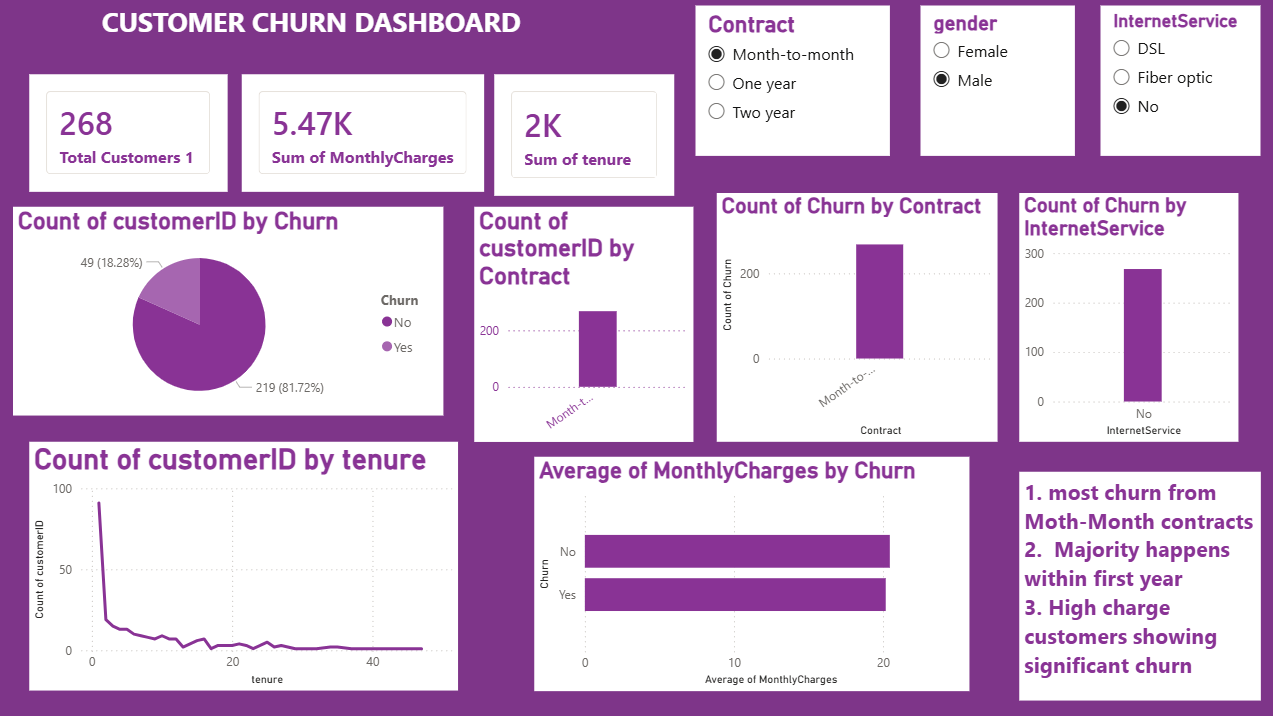

Layout of this report page (visuals, bound fields, positions):
{"tool":"powerbi","page":{"name":"Page 1","canvas":[1280,720],"ordinal":0},"visuals":[{"type":"cardVisual","fields":{"Data":["WA_Fn-UseC_-Telco-Customer-Churn.Total Customers 1"]},"box":[252.9,45.7,295.7,132.9],"z":0},{"type":"pieChart","fields":{"Category":["WA_Fn-UseC_-Telco-Customer-Churn.Churn"],"Y":["CountNonNull(WA_Fn-UseC_-Telco-Customer-Churn.customerID)"]},"box":[267.1,190,430,208.6],"z":1000},{"type":"clusteredColumnChart","fields":{"Category":["WA_Fn-UseC_-Telco-Customer-Churn.Contract"],"Y":["CountNonNull(WA_Fn-UseC_-Telco-Customer-Churn.customerID)"]},"box":[720,190,560,280],"z":2000},{"type":"lineChart","fields":{"Category":["WA_Fn-UseC_-Telco-Customer-Churn.tenure"],"Y":["CountNonNull(WA_Fn-UseC_-Telco-Customer-Churn.customerID)"]},"box":[252.9,440,955.7,280],"z":3000},{"type":"slicer","fields":{"Values":["WA_Fn-UseC_-Telco-Customer-Churn.Contract"]},"box":[0,81.4,280,138.6],"z":4000},{"type":"slicer","fields":{"Values":["WA_Fn-UseC_-Telco-Customer-Churn.gender"]},"box":[0,201.4,280,115.7],"z":5000},{"type":"slicer","fields":{"Values":["WA_Fn-UseC_-Telco-Customer-Churn.InternetService"]},"box":[0,294.3,225.7,122.9],"z":6000},{"type":"textbox","box":[0,0,1280,71.4],"z":6001},{"type":"cardVisual","fields":{"Data":["Sum(WA_Fn-UseC_-Telco-Customer-Churn.MonthlyCharges)"]},"box":[630,58.6,225.7,132.9],"z":6002},{"type":"cardVisual","fields":{"Data":["Sum(WA_Fn-UseC_-Telco-Customer-Churn.tenure)"]},"box":[897.1,58.6,330,108.6],"z":6003}]}

Visuals, with their boxes in screenshot pixels (x1, y1, x2, y2), scaled from the page's 1280x720 canvas onto the 1273x716 screenshot:
cardVisual - WA_Fn-UseC_-Telco-Customer-Churn.Total Customers 1: BBox(252, 45, 546, 178)
pieChart - WA_Fn-UseC_-Telco-Customer-Churn.Churn x CountNonNull(WA_Fn-UseC_-Telco-Customer-Churn.customerID): BBox(266, 189, 693, 396)
clusteredColumnChart - WA_Fn-UseC_-Telco-Customer-Churn.Contract x CountNonNull(WA_Fn-UseC_-Telco-Customer-Churn.customerID): BBox(716, 189, 1272, 467)
lineChart - WA_Fn-UseC_-Telco-Customer-Churn.tenure x CountNonNull(WA_Fn-UseC_-Telco-Customer-Churn.customerID): BBox(252, 438, 1202, 715)
slicer - WA_Fn-UseC_-Telco-Customer-Churn.Contract: BBox(0, 81, 278, 219)
slicer - WA_Fn-UseC_-Telco-Customer-Churn.gender: BBox(0, 200, 278, 315)
slicer - WA_Fn-UseC_-Telco-Customer-Churn.InternetService: BBox(0, 293, 224, 415)
textbox: BBox(0, 0, 1272, 71)
cardVisual - Sum(WA_Fn-UseC_-Telco-Customer-Churn.MonthlyCharges): BBox(627, 58, 851, 190)
cardVisual - Sum(WA_Fn-UseC_-Telco-Customer-Churn.tenure): BBox(892, 58, 1220, 166)
